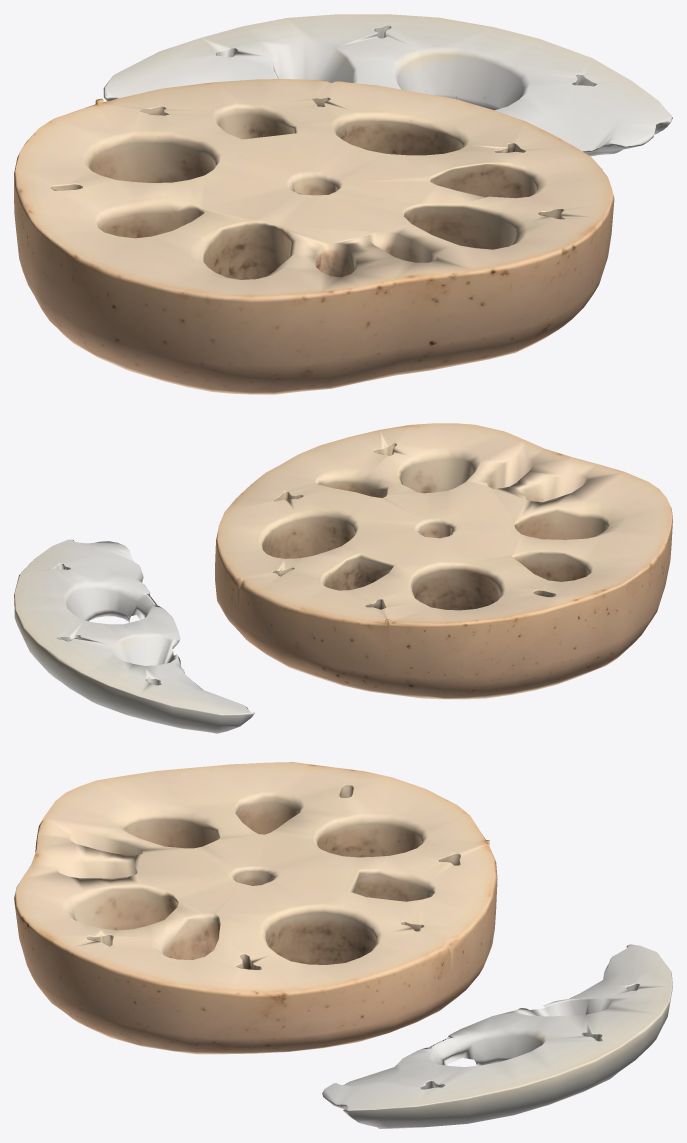
Rendered from optimized_glb.glb.
The picture shows the model from 3 angles, top to bottom: view 1: azimuth 30°, elevation 25°; view 2: azimuth 150°, elevation 25°; view 3: azimuth 270°, elevation 25°; orthographic projection. The views are drawn at different scales.
Visible parts, largest first — view 1: Lotus Root Slice; view 2: Lotus Root Slice; view 3: Lotus Root Slice.
Part boxes in pixels (x1,y1,x2,y2): Lotus Root Slice: (14, 14, 672, 394); Lotus Root Slice: (14, 423, 672, 733); Lotus Root Slice: (14, 762, 672, 1128).
Size of the model in its own units: 0.998 by 0.1699 by 0.9902.
1 material, 1 textured.
